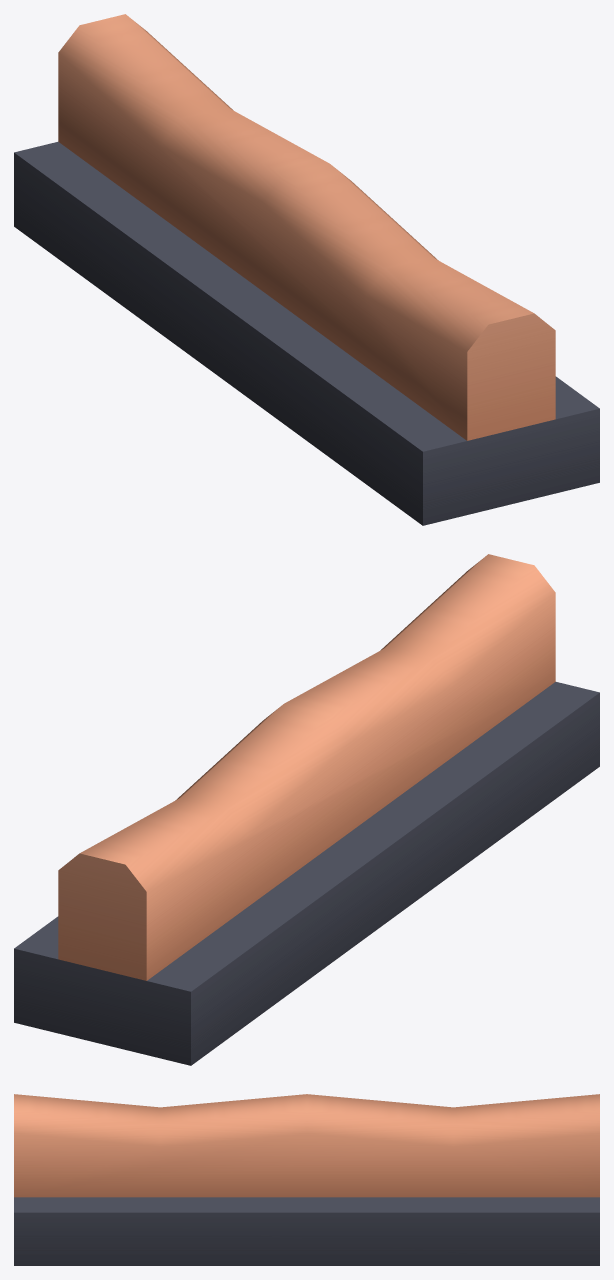
Rendered from hedge.glb.
3 views of the same model, one above another, from view 1: azimuth 30°, elevation 25°; view 2: azimuth 150°, elevation 25°; view 3: azimuth 270°, elevation 25° (orthographic). The views are drawn at different scales.
Parts seen in each view (by area): view 1: hedge; view 2: hedge; view 3: hedge.
Boxes of the visible parts, x1,y1,x2,y2 form: hedge: (14,14,599,525); hedge: (14,554,599,1065); hedge: (14,1094,599,1265).
Size of the model in its own units: 0.25 by 0.25 by 1.
1 material, 1 textured.
